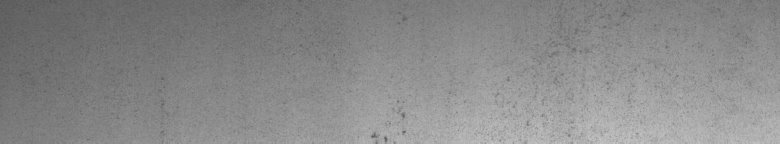ib: (493, 11, 644, 128)
